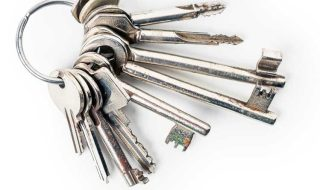key: (46, 4, 293, 187)
